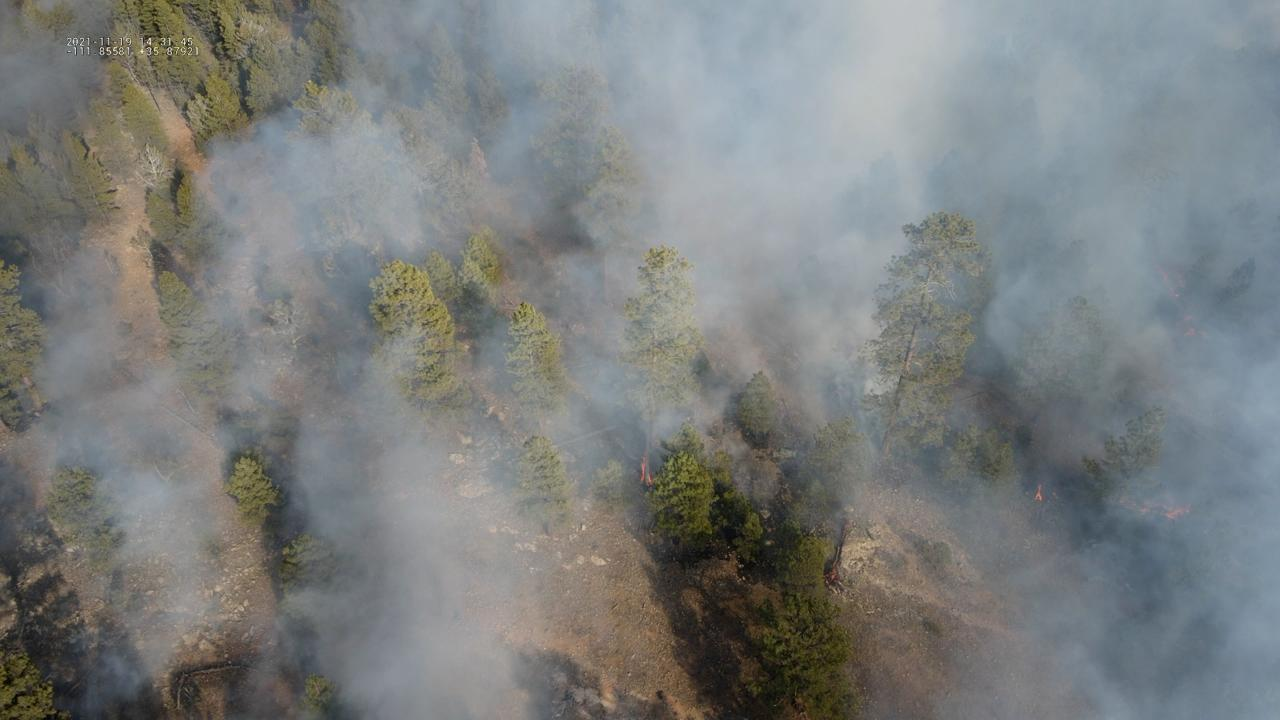fire: (1111, 494, 1193, 523), (637, 460, 653, 489), (1032, 484, 1044, 504), (826, 566, 841, 582)
smoke: (0, 0, 1280, 720)
